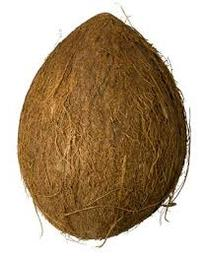coconut: (16, 12, 188, 240)
